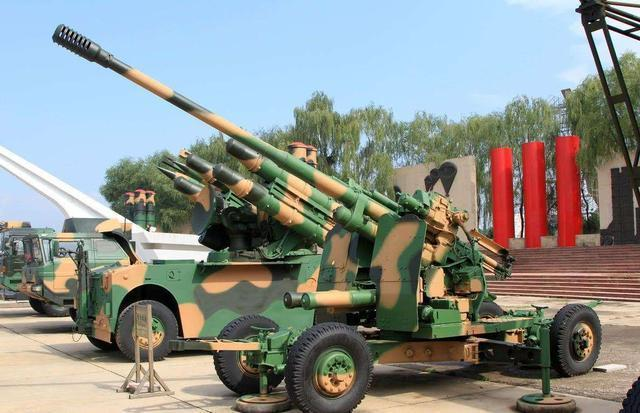MIL_SPG: (52, 26, 600, 412)
